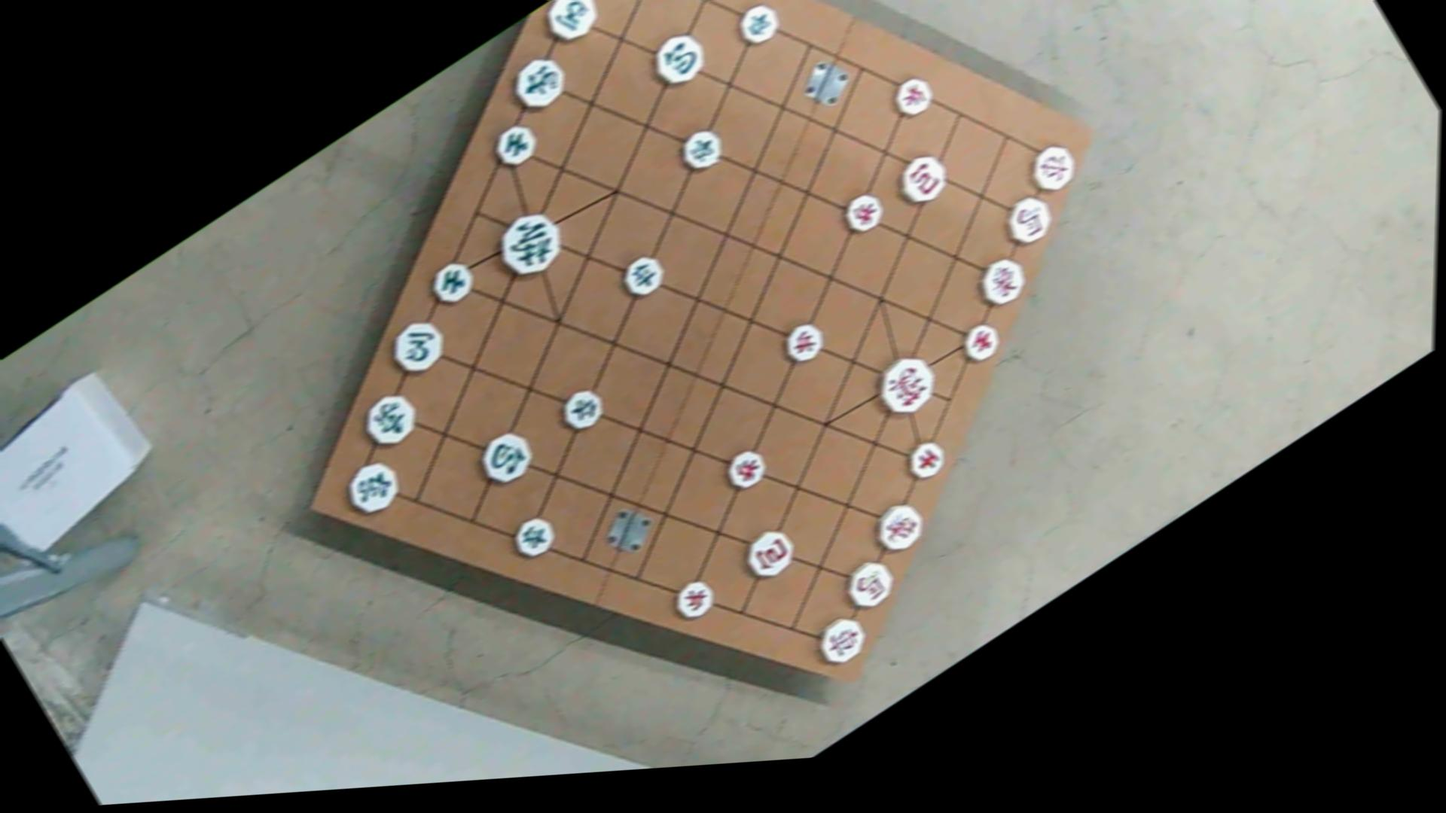cha_green: (338, 451, 407, 521)
cha_red: (810, 607, 874, 670), (1022, 136, 1083, 199)
jol_green: (670, 118, 728, 176), (553, 379, 610, 437), (613, 247, 669, 303), (505, 509, 560, 564), (730, 0, 786, 53)
jol_red: (774, 316, 828, 370), (886, 68, 940, 121), (668, 571, 721, 623), (837, 184, 889, 236), (721, 443, 773, 495)
ma_green: (380, 309, 452, 381), (535, 0, 609, 53)
ma_red: (998, 186, 1060, 249), (836, 553, 898, 615)
po_green: (644, 24, 713, 93), (469, 422, 537, 491)
po_red: (887, 148, 953, 214), (735, 522, 798, 586)
sa_green: (484, 117, 541, 174), (423, 253, 480, 309)
sa_red: (953, 315, 1005, 367), (897, 435, 949, 486)
sang_green: (502, 44, 577, 119), (352, 384, 424, 456)
sang_red: (865, 494, 930, 559), (971, 251, 1033, 313)
wang_green: (487, 201, 573, 288)
wang_red: (867, 346, 942, 422)
